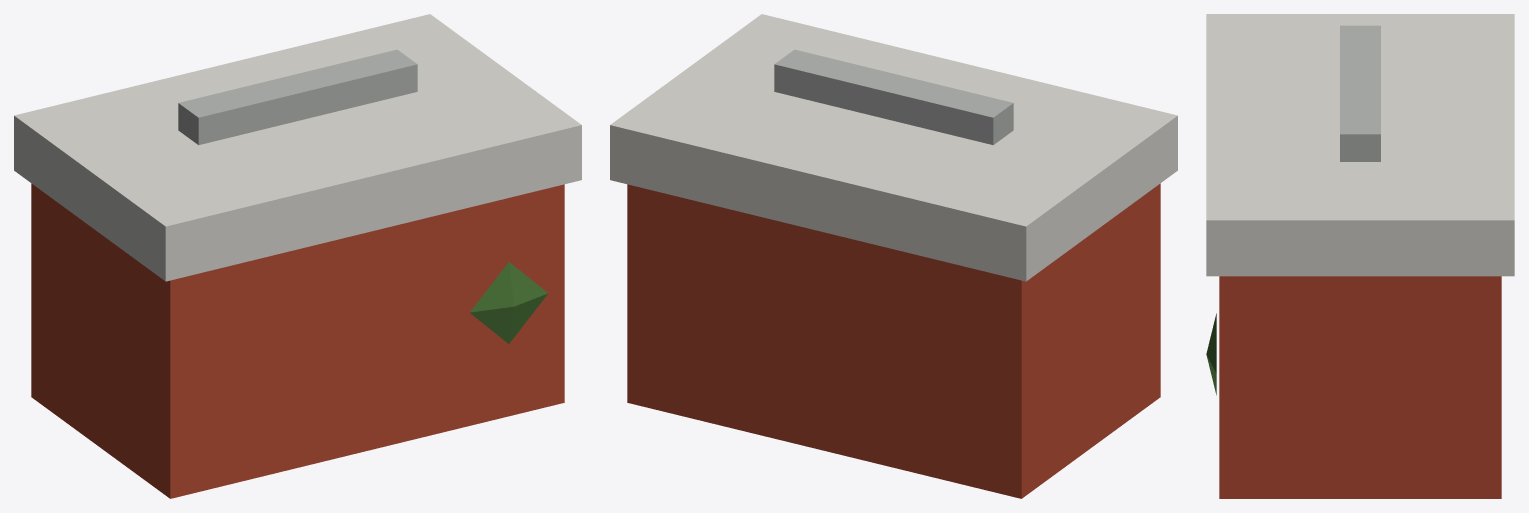
File: upgrade-cooler.glb
3 renders of one model, left to right at view 1: azimuth 30°, elevation 25°; view 2: azimuth 150°, elevation 25°; view 3: azimuth 270°, elevation 25°, orthographic.
Visible parts, largest first — view 1: upgrade-cooler; view 2: upgrade-cooler; view 3: upgrade-cooler.
Boxes of the visible parts, x1,y1,x2,y2 form: upgrade-cooler: [14, 14, 581, 498]; upgrade-cooler: [610, 14, 1177, 498]; upgrade-cooler: [1206, 14, 1514, 498].
Size of the model in its own units: 0.95 by 0.69 by 0.6.
